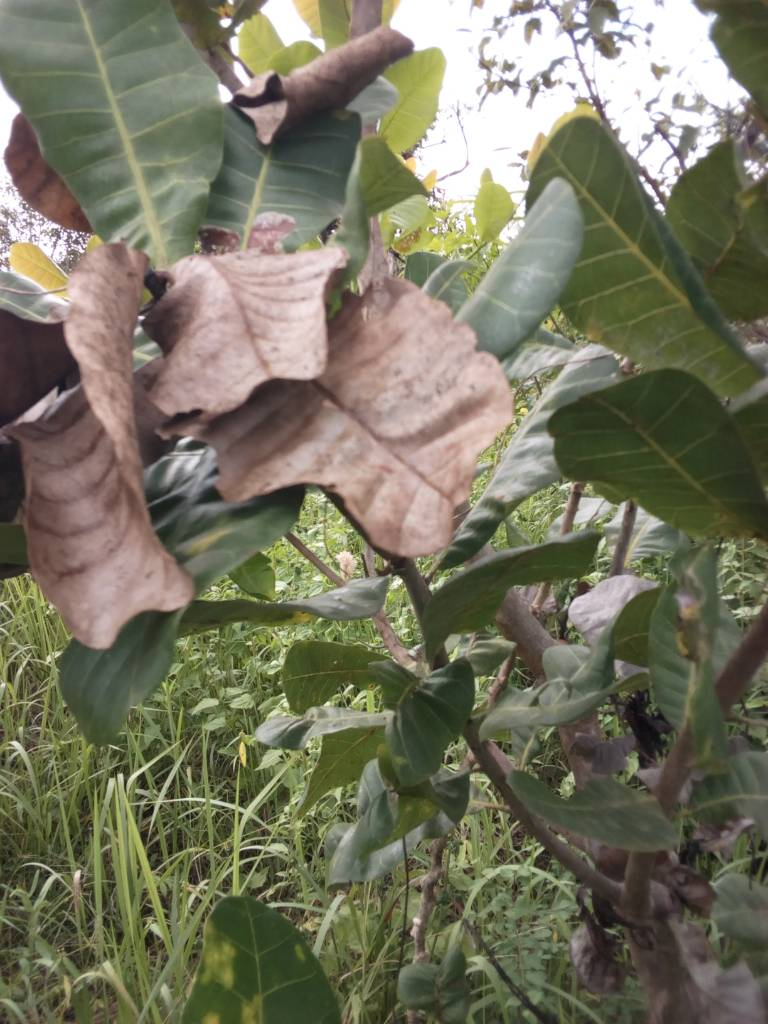Dessèchement des bourgeons: (626, 695, 667, 769)
